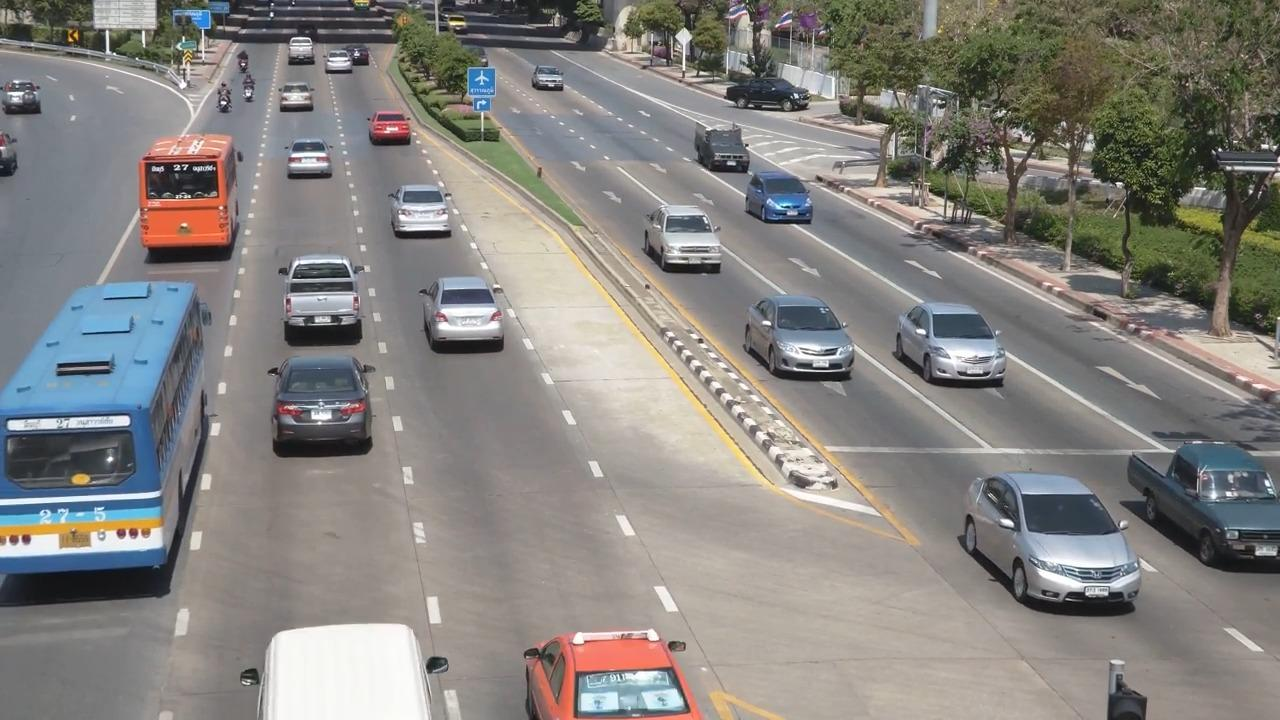CAR: (958, 465, 1158, 625), (500, 586, 729, 720), (1135, 431, 1280, 573), (249, 345, 394, 472), (885, 289, 1025, 400), (741, 282, 870, 398), (411, 268, 532, 374), (262, 247, 388, 347), (627, 193, 731, 286), (733, 161, 832, 239), (378, 176, 467, 246), (727, 55, 818, 120), (683, 114, 766, 184), (276, 136, 353, 200), (366, 103, 427, 164), (3, 72, 59, 136), (523, 57, 587, 108), (273, 31, 329, 74), (274, 74, 326, 119), (345, 34, 396, 79), (317, 43, 364, 87)
HGV_BUS: (0, 268, 215, 627), (120, 126, 250, 267)
MOTOR: (232, 78, 270, 135), (202, 79, 236, 122), (227, 40, 260, 79)
